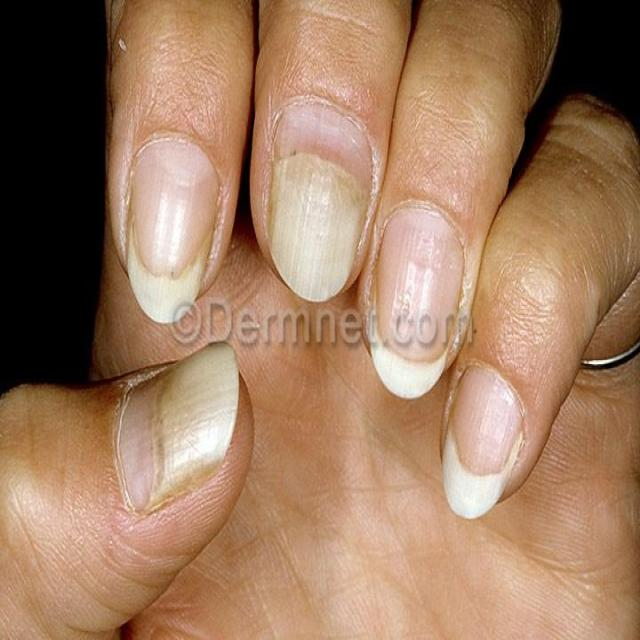Nail: (263, 102, 375, 298), (119, 338, 239, 517), (123, 140, 221, 328), (368, 208, 463, 400), (441, 362, 527, 523)
